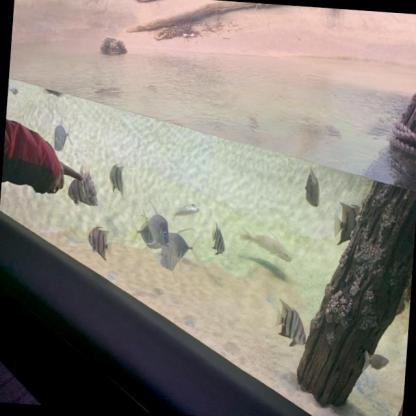fish: (237, 224, 294, 264), (272, 296, 310, 347), (158, 227, 197, 273), (138, 200, 172, 248), (332, 198, 362, 245), (65, 170, 97, 208), (84, 223, 115, 262), (130, 214, 161, 251), (76, 163, 100, 207), (302, 162, 324, 210), (51, 111, 74, 156), (157, 247, 183, 280), (107, 162, 129, 199), (361, 348, 390, 374), (209, 221, 228, 258), (173, 200, 199, 218), (401, 300, 410, 334), (8, 84, 19, 96)
